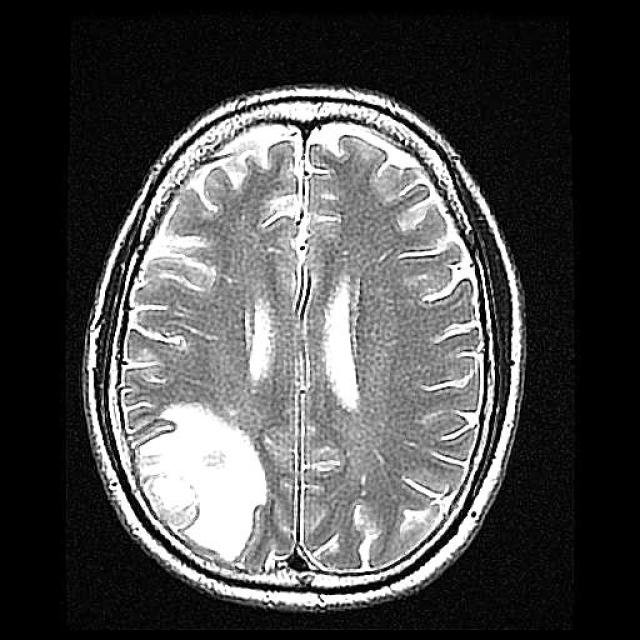Tumor-Cell: (134, 390, 266, 552)
